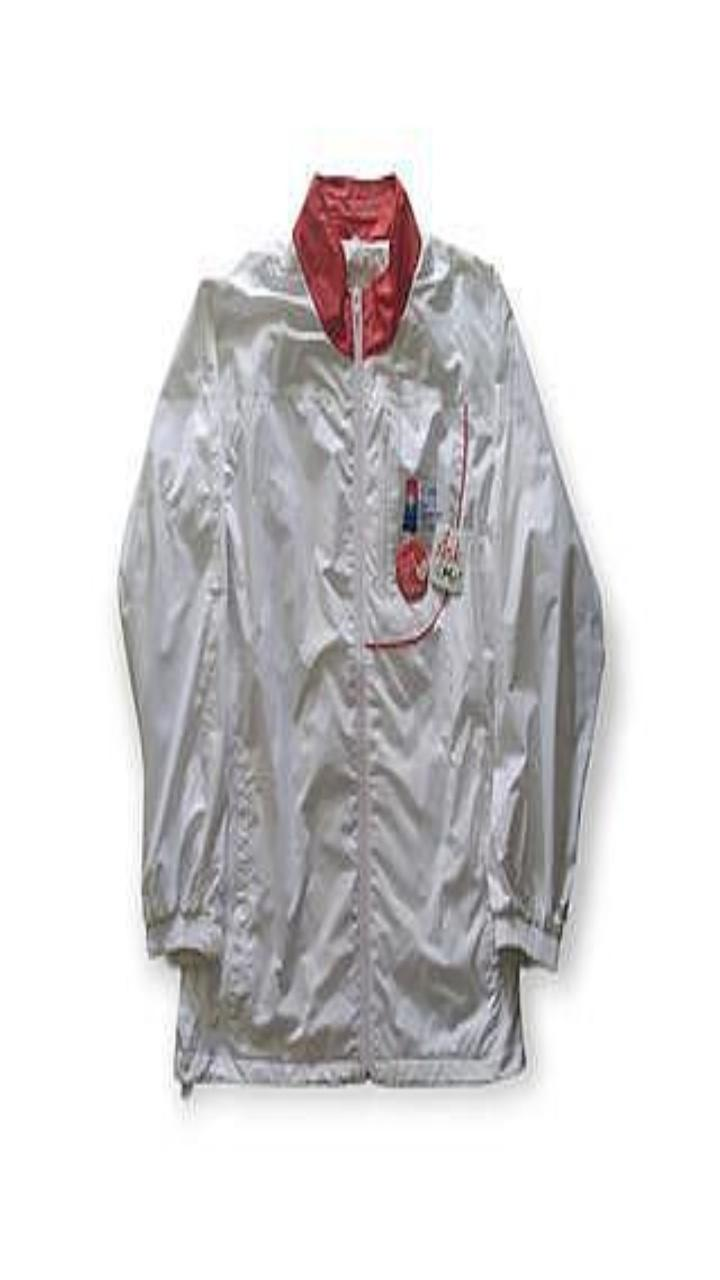Sports_Jacket: (118, 173, 604, 1090)
